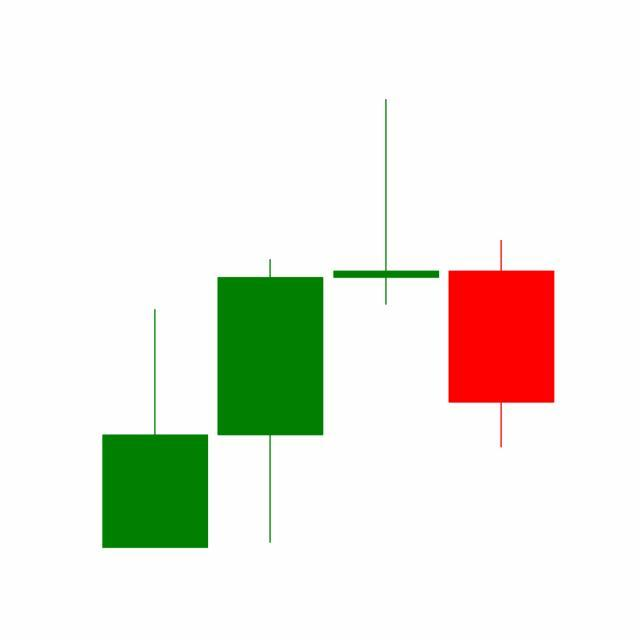Gravestone Doji: (329, 97, 445, 308)
